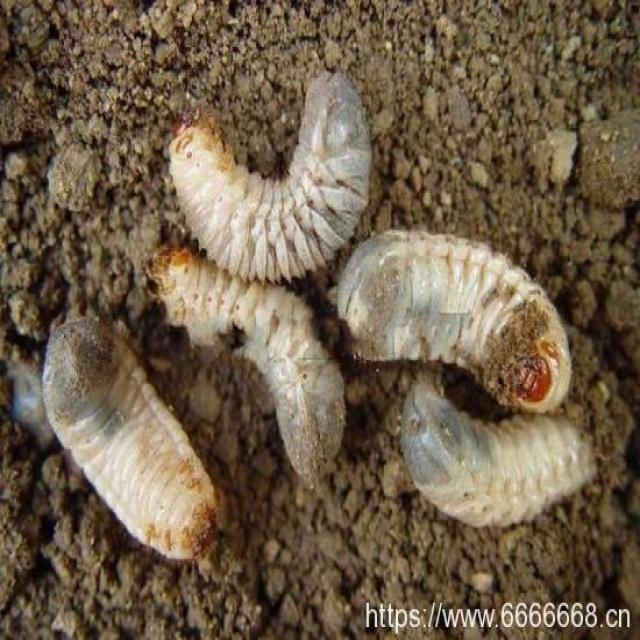Grub-Adult-: (333, 212, 587, 414), (153, 51, 371, 284), (39, 316, 227, 570), (385, 383, 603, 531)
